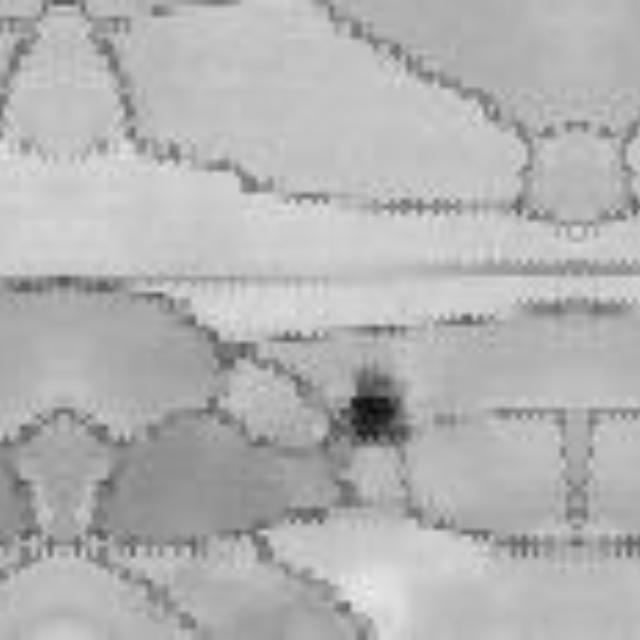good_void: (337, 354, 414, 454)
